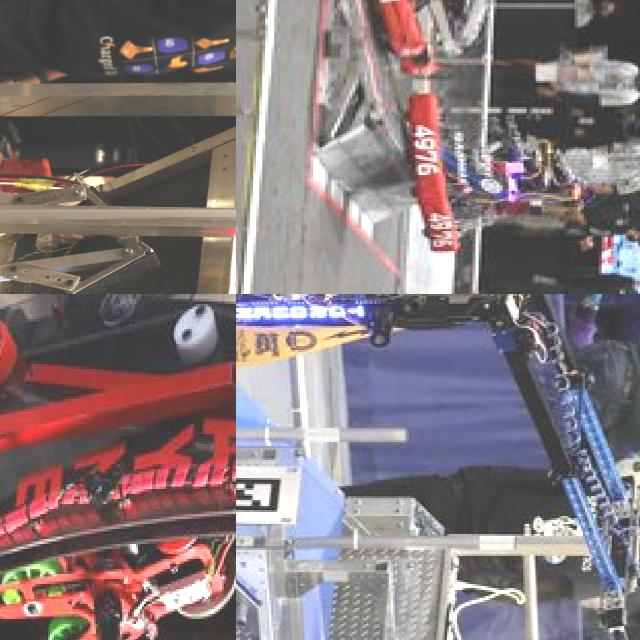FRC-Robots: (236, 294, 640, 530), (0, 294, 236, 640), (0, 0, 236, 294), (383, 106, 592, 248), (361, 0, 519, 73)
